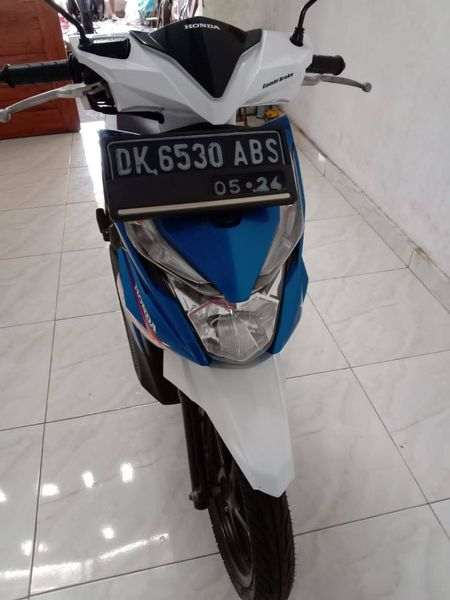plate: (103, 136, 292, 212)
